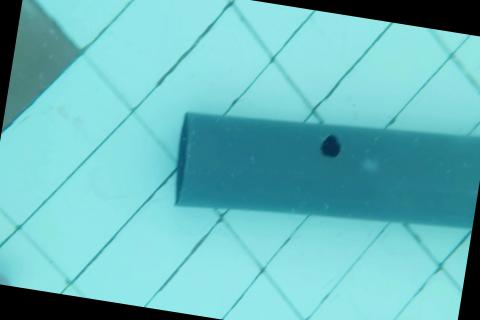kebocoran: (318, 131, 344, 160)
